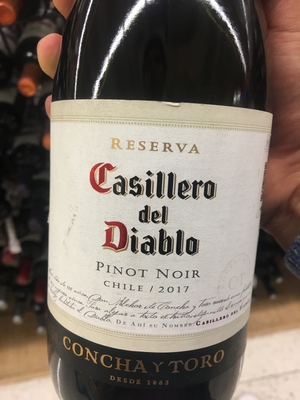casillero del diablo pinot noir: (45, 42, 280, 400)
